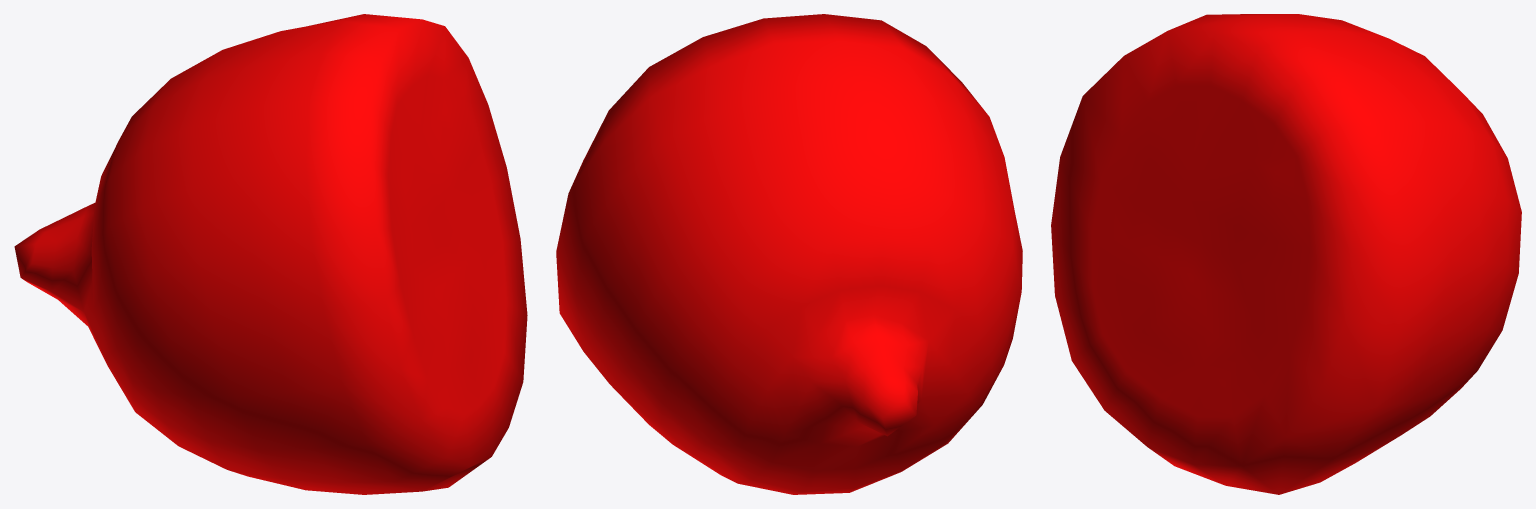
Rendered from lemon2.FBX.
The picture shows the model from 3 angles, left to right: view 1: azimuth 30°, elevation 25°; view 2: azimuth 150°, elevation 25°; view 3: azimuth 270°, elevation 25°; orthographic projection. The views are drawn at different scales.
Parts seen in each view (by area): view 1: lemon2; view 2: lemon2; view 3: lemon2.
Boxes of the visible parts, left/top/right/bottom form: lemon2: left=14, top=14, right=527, bottom=494; lemon2: left=556, top=14, right=1022, bottom=494; lemon2: left=1051, top=14, right=1521, bottom=494.
Size of the model in its own units: 45.3 by 44.8 by 45.07.
